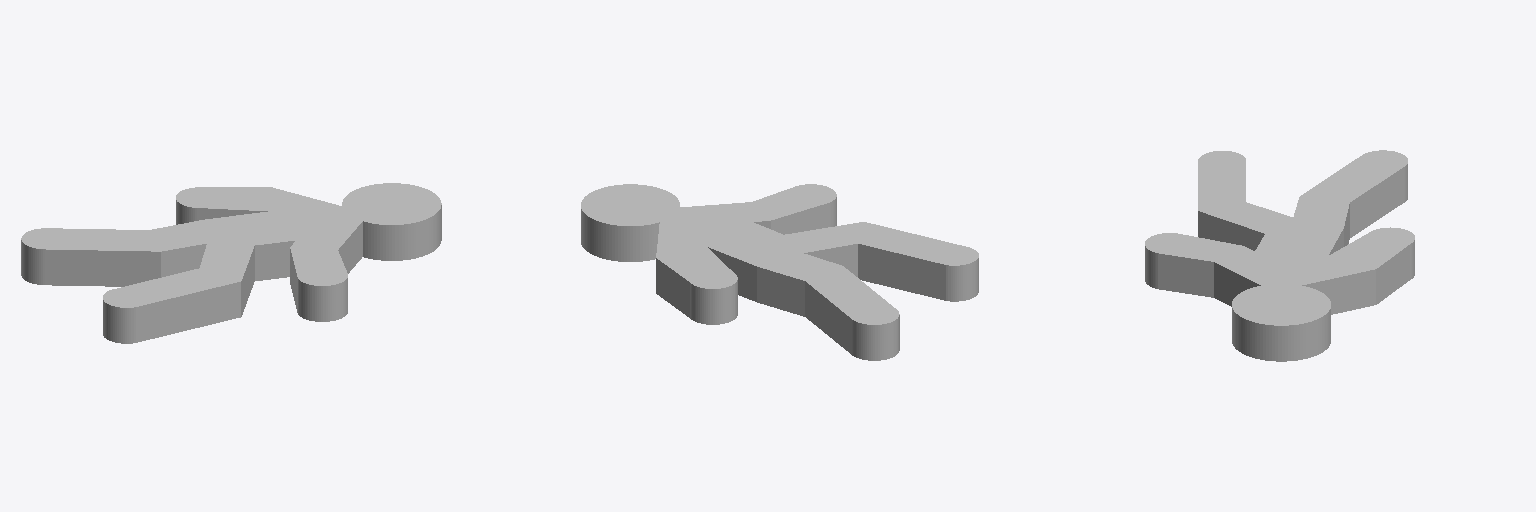
Rendered from ped.obj.
3 renders of one model, left to right at view 1: azimuth 30°, elevation 25°; view 2: azimuth 150°, elevation 25°; view 3: azimuth 270°, elevation 25°, orthographic.
Parts seen in each view (by area): view 1: Body2; view 2: Body2; view 3: Body2.
Part boxes in pixels (left/top/right/bottom): Body2: left=21, top=183, right=441, bottom=343; Body2: left=581, top=184, right=978, bottom=360; Body2: left=1145, top=150, right=1414, bottom=361.
Bounding box in the file's own units: 186 × 17.78 × 122.